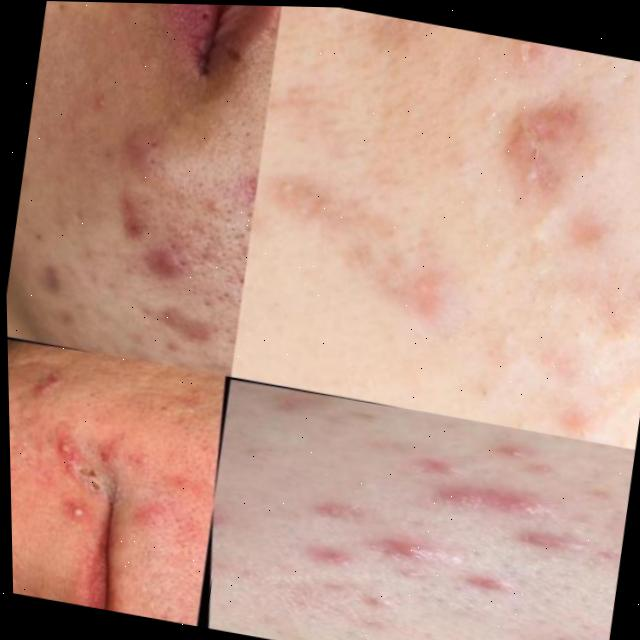Acne: (290, 418, 636, 640), (376, 77, 640, 326), (19, 154, 232, 348), (23, 401, 138, 540)
